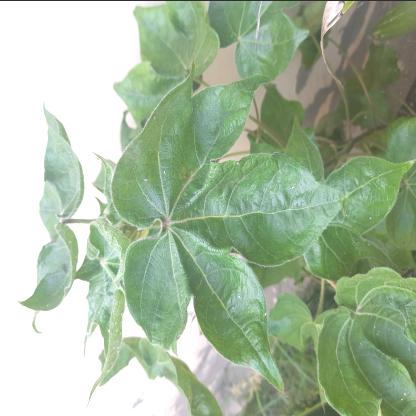curl_stage1: (138, 11, 213, 53), (361, 158, 399, 202), (222, 90, 254, 133), (135, 67, 160, 101)
curl_stage2: (46, 111, 86, 297), (93, 218, 125, 380), (165, 347, 211, 416), (245, 280, 269, 364)
healthy: (148, 169, 227, 267), (226, 177, 296, 256), (358, 308, 411, 391), (307, 199, 355, 259), (159, 115, 191, 165), (119, 169, 151, 219)
